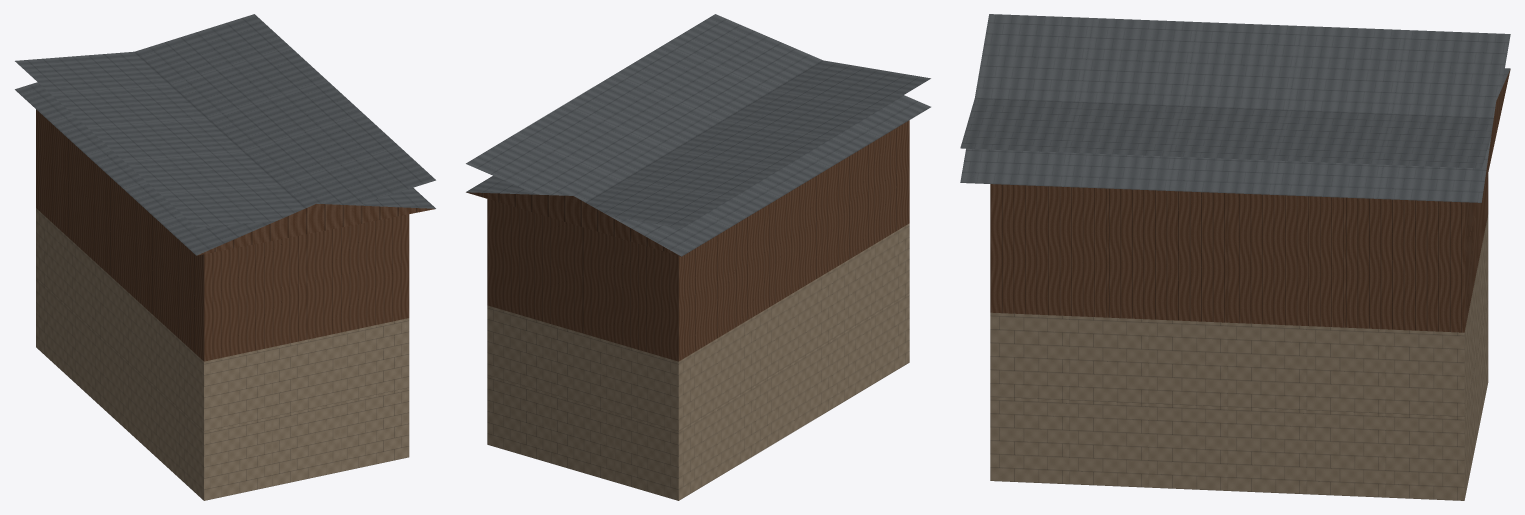
The model's file is bld_c1_11_484.gltf.
3 views of the same model, side by side, from view 1: azimuth 30°, elevation 25°; view 2: azimuth 150°, elevation 25°; view 3: azimuth 270°, elevation 25° (orthographic). The views are drawn at different scales.
Parts seen in each view (by area): view 1: bld_c1_11_484; view 2: bld_c1_11_484; view 3: bld_c1_11_484.
Part boxes in pixels (x1,y1,x2,y2): bld_c1_11_484: (15, 14, 435, 500); bld_c1_11_484: (466, 14, 930, 500); bld_c1_11_484: (960, 14, 1510, 500).
Bounding box in the file's own units: 9.61 × 9.9 × 14.48.
Materials: 4 (4 with a texture image).
